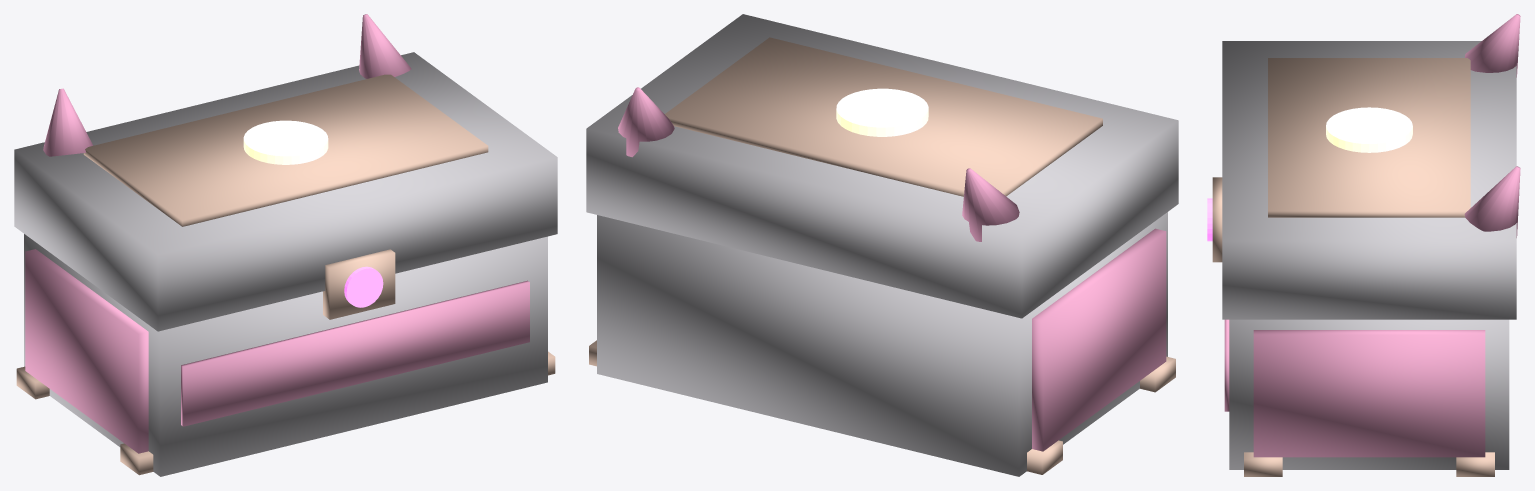
The model's file is BR_Supply_Chest_Legendary.glb.
3 renders of one model, left to right at view 1: azimuth 30°, elevation 25°; view 2: azimuth 150°, elevation 25°; view 3: azimuth 270°, elevation 25°, orthographic. The views are drawn at different scales.
Parts seen in each view (by area): view 1: GEO-chest_lid, GEO-chest_hull, GEO-chest_crest_plate, GEO-chest_sakura_band, GEO-chest_wing_plate_-1, GEO-chest_star_emitter, GEO-chest_lock_core, GEO-chest_cat_ear_-0.38, GEO-chest_cat_ear_0.38, GEO-chest_lock_heart, GEO-chest_skid_-1, GEO-chest_skid_1; view 2: GEO-chest_lid, GEO-chest_hull, GEO-chest_crest_plate, GEO-chest_wing_plate_-1, GEO-chest_star_emitter, GEO-chest_cat_ear_-0.38, GEO-chest_cat_ear_0.38, GEO-chest_skid_1, GEO-chest_skid_-1; view 3: GEO-chest_lid, GEO-chest_wing_plate_1, GEO-chest_crest_plate, GEO-chest_hull, GEO-chest_star_emitter, GEO-chest_cat_ear_0.38, GEO-chest_cat_ear_-0.38, GEO-chest_lock_core, GEO-chest_skid_1, GEO-chest_skid_-1, GEO-chest_sakura_band.
Boxes of the visible parts, box(x1,y1,x2,y2) form: GEO-chest_lid: box(14, 52, 557, 331); GEO-chest_hull: box(24, 234, 547, 476); GEO-chest_crest_plate: box(83, 74, 488, 226); GEO-chest_sakura_band: box(181, 280, 529, 426); GEO-chest_wing_plate_-1: box(25, 249, 148, 453); GEO-chest_star_emitter: box(243, 120, 328, 164); GEO-chest_lock_core: box(323, 249, 395, 319); GEO-chest_cat_ear_-0.38: box(43, 88, 92, 156); GEO-chest_cat_ear_0.38: box(359, 14, 411, 78); GEO-chest_lock_heart: box(344, 266, 383, 307); GEO-chest_skid_-1: box(120, 351, 555, 475); GEO-chest_skid_1: box(16, 366, 49, 399); GEO-chest_lid: box(586, 14, 1178, 318); GEO-chest_hull: box(597, 212, 1167, 476); GEO-chest_crest_plate: box(665, 37, 1102, 196); GEO-chest_wing_plate_-1: box(1032, 228, 1166, 451); GEO-chest_star_emitter: box(836, 88, 928, 136); GEO-chest_cat_ear_-0.38: box(962, 168, 1019, 241); GEO-chest_cat_ear_0.38: box(618, 87, 674, 157); GEO-chest_skid_1: box(589, 340, 1062, 474); GEO-chest_skid_-1: box(1140, 356, 1175, 392); GEO-chest_lid: box(1222, 41, 1516, 319); GEO-chest_wing_plate_1: box(1253, 330, 1485, 457); GEO-chest_crest_plate: box(1268, 58, 1470, 217); GEO-chest_hull: box(1229, 319, 1509, 469); GEO-chest_star_emitter: box(1326, 107, 1412, 152); GEO-chest_cat_ear_0.38: box(1464, 166, 1520, 237); GEO-chest_cat_ear_-0.38: box(1464, 14, 1520, 77); GEO-chest_lock_core: box(1212, 177, 1222, 262); GEO-chest_skid_1: box(1456, 452, 1494, 476); GEO-chest_skid_-1: box(1244, 452, 1282, 476); GEO-chest_sakura_band: box(1224, 319, 1229, 411).
Bounding box in the file's own units: 1.02 × 0.6456 × 0.6486.
